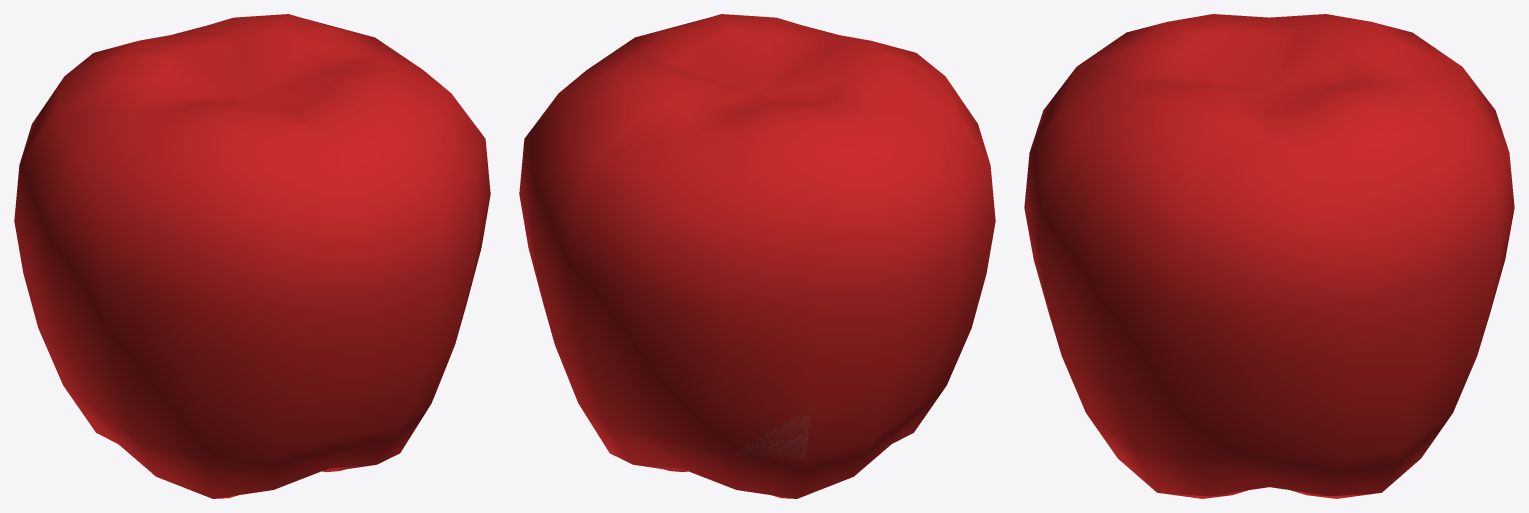
Rendered from mesh_wholeapple.fbx.
3 views of the same model, side by side, from view 1: azimuth 30°, elevation 25°; view 2: azimuth 150°, elevation 25°; view 3: azimuth 270°, elevation 25° (orthographic). The views are drawn at different scales.
Visible parts, largest first — view 1: mesh_wholeapple; view 2: mesh_wholeapple; view 3: mesh_wholeapple.
Part boxes in pixels (bbox=[...]): mesh_wholeapple: bbox=[14, 14, 490, 498]; mesh_wholeapple: bbox=[519, 14, 995, 498]; mesh_wholeapple: bbox=[1024, 14, 1514, 498].
Bounding box in the file's own units: 0.246 × 0.2266 × 0.246.
